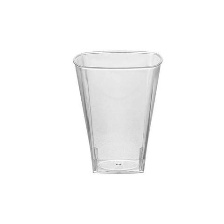glass: (70, 45, 172, 191)
